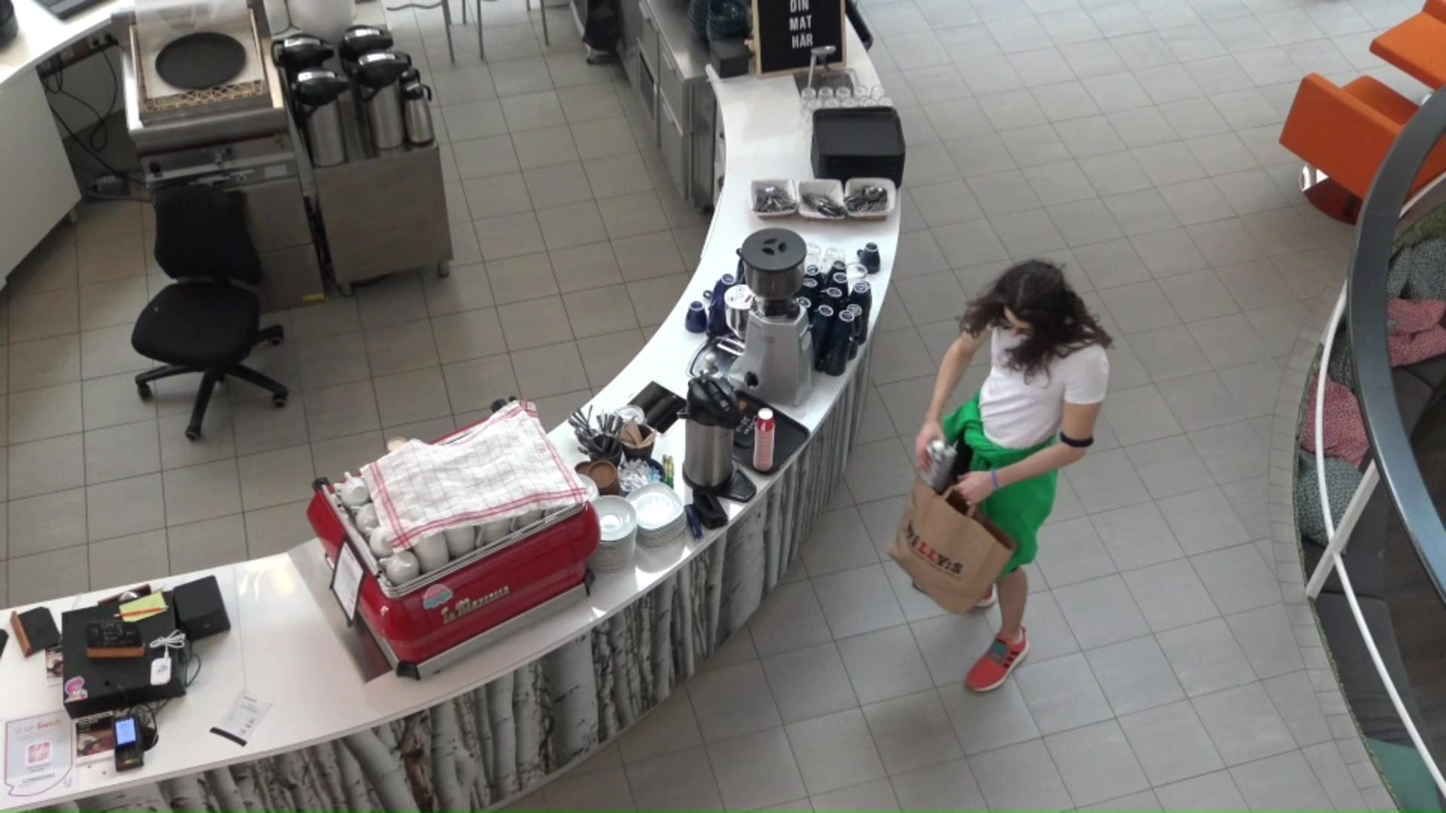shoplifting: (893, 260, 1106, 693)
